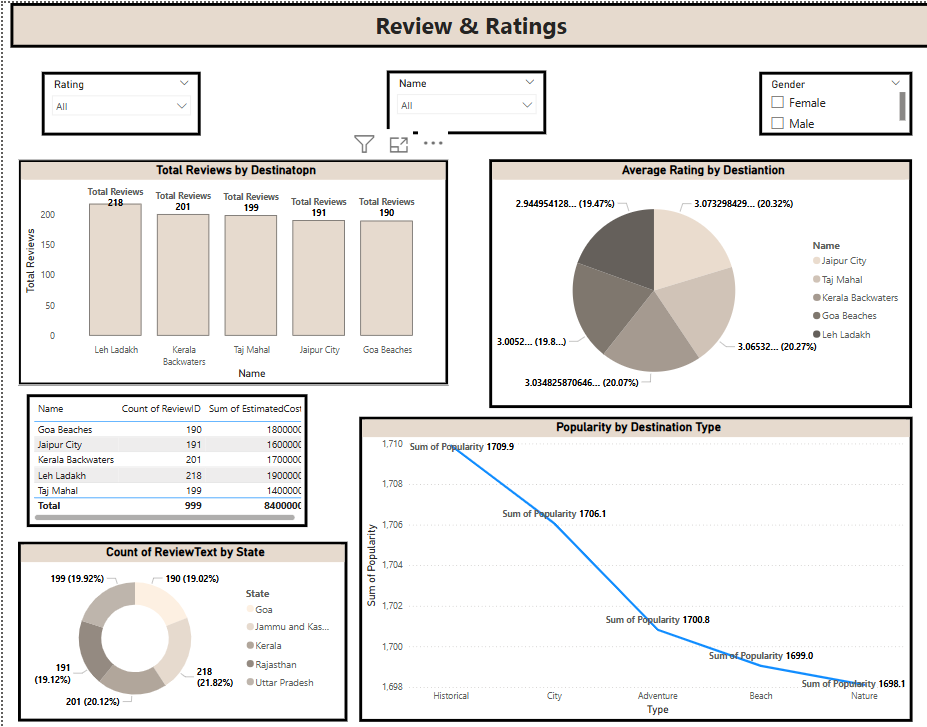

This screenshot's page, from the dashboard's own definition file:
{"tool":"powerbi","page":{"name":"Review & Ratings","canvas":[1280,1000],"ordinal":2},"visuals":[{"type":"textbox","box":[9.8,0,1270.5,61.7],"z":0},{"type":"slicer","fields":{"Values":["Reviews.Rating"]},"box":[53.6,94.2,219.3,88.2],"z":1000},{"type":"slicer","fields":{"Values":["Destinations_With_Cost.Name"]},"box":[528.7,94,220.2,88.3],"z":2000},{"type":"slicer","fields":{"Values":["Users.Gender"]},"box":[1043,94.2,211,88.2],"z":3000},{"type":"clusteredColumnChart","title":"Total Reviews by Destinatopn","fields":{"Y":["Reviews.Total Reviews"],"Category":["Destinations_With_Cost.Name"]},"box":[21.5,215.8,593.6,312.3],"z":4000},{"type":"tableEx","fields":{"Values":["Destinations_With_Cost.Name","CountNonNull(Reviews.ReviewID)","Sum(Destinations_With_Cost.EstimatedCost)"]},"box":[33.4,540,387.4,183.6],"z":5000},{"type":"pieChart","title":"Average Rating by Destiantion","fields":{"Y":["Reviews.Average Rating"],"Category":["Destinations_With_Cost.Name"]},"box":[671.1,215.8,582.9,343.3],"z":6000},{"type":"lineChart","title":"Popularity by Destination Type","fields":{"Y":["Sum(Destinations_With_Cost.Popularity)"],"Category":["Destinations_With_Cost.Type"]},"box":[491.1,571,762.9,420.8],"z":7000},{"type":"donutChart","fields":{"Series":["Destinations_With_Cost.State"],"Y":["CountNonNull(Reviews.ReviewText)"]},"box":[21.5,743.8,454.2,247.9],"z":8000}]}

Visuals, with their boxes in screenshot pixels (x1, y1, x2, y2), scaled from the page's 1280x1000 canvas onto the 927x727 screenshot:
textbox: [left=7, top=0, right=926, bottom=45]
slicer - Reviews.Rating: [left=39, top=68, right=198, bottom=133]
slicer - Destinations_With_Cost.Name: [left=383, top=68, right=542, bottom=133]
slicer - Users.Gender: [left=755, top=68, right=908, bottom=133]
"Total Reviews by Destinatopn" clusteredColumnChart: [left=16, top=157, right=445, bottom=384]
tableEx - Destinations_With_Cost.Name x CountNonNull(Reviews.ReviewID): [left=24, top=393, right=305, bottom=526]
"Average Rating by Destiantion" pieChart: [left=486, top=157, right=908, bottom=406]
"Popularity by Destination Type" lineChart: [left=356, top=415, right=908, bottom=721]
donutChart - Destinations_With_Cost.State x CountNonNull(Reviews.ReviewText): [left=16, top=541, right=345, bottom=721]
